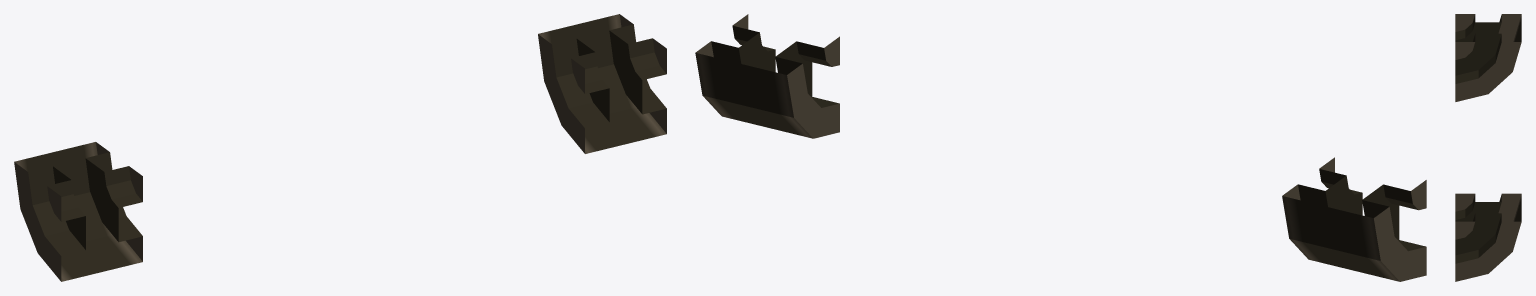
The model's file is RoadVerticalUnion.fbx.
3 renders of one model, left to right at view 1: azimuth 30°, elevation 25°; view 2: azimuth 150°, elevation 25°; view 3: azimuth 270°, elevation 25°, orthographic. The views are drawn at different scales.
Visible parts, largest first — view 1: RoadUnion; view 2: RoadUnion; view 3: RoadUnion.
Part boxes in pixels (x1,y1,x2,y2): RoadUnion: (14, 14, 666, 281); RoadUnion: (695, 14, 1426, 281); RoadUnion: (1455, 14, 1521, 281).
Size of the model in its own units: 231 by 31.25 by 31.25.
